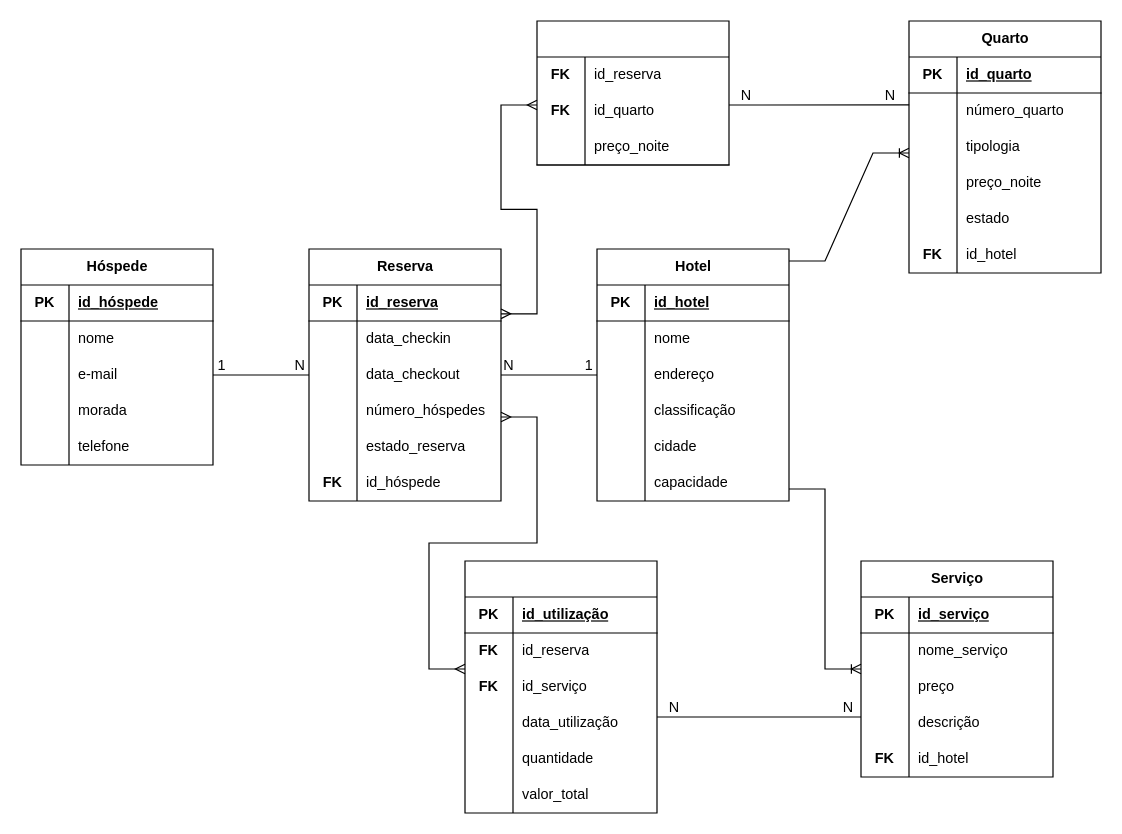
Some shapes in this 1122 by 834 pixel diagram are drawn without their labels. The shapes that lost their labels are listed below. From the top down, each one's box as (x1, y1, x2, y2) in pixels, then its label:
(536, 20, 729, 165): Reserva_Quarto
(464, 560, 657, 813): Utilização_Serviço
